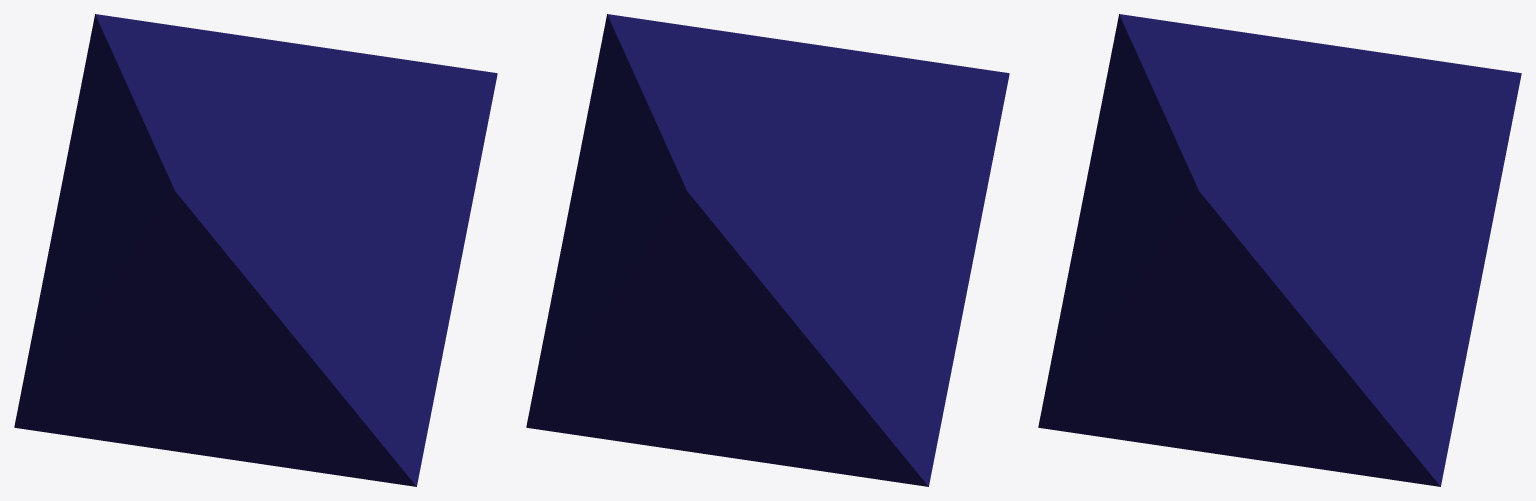
Rendered from Octahedron.glb.
3 views of the same model, side by side, from view 1: azimuth 30°, elevation 25°; view 2: azimuth 150°, elevation 25°; view 3: azimuth 270°, elevation 25° (orthographic).
Visible parts, largest first — view 1: Octahedron; view 2: Octahedron; view 3: Octahedron.
Part boxes in pixels (x1,y1,x2,y2): Octahedron: [14, 14, 497, 486]; Octahedron: [526, 14, 1009, 486]; Octahedron: [1038, 14, 1521, 486].
Bounding box in the file's own units: 0.6107 × 0.4573 × 0.6352.
